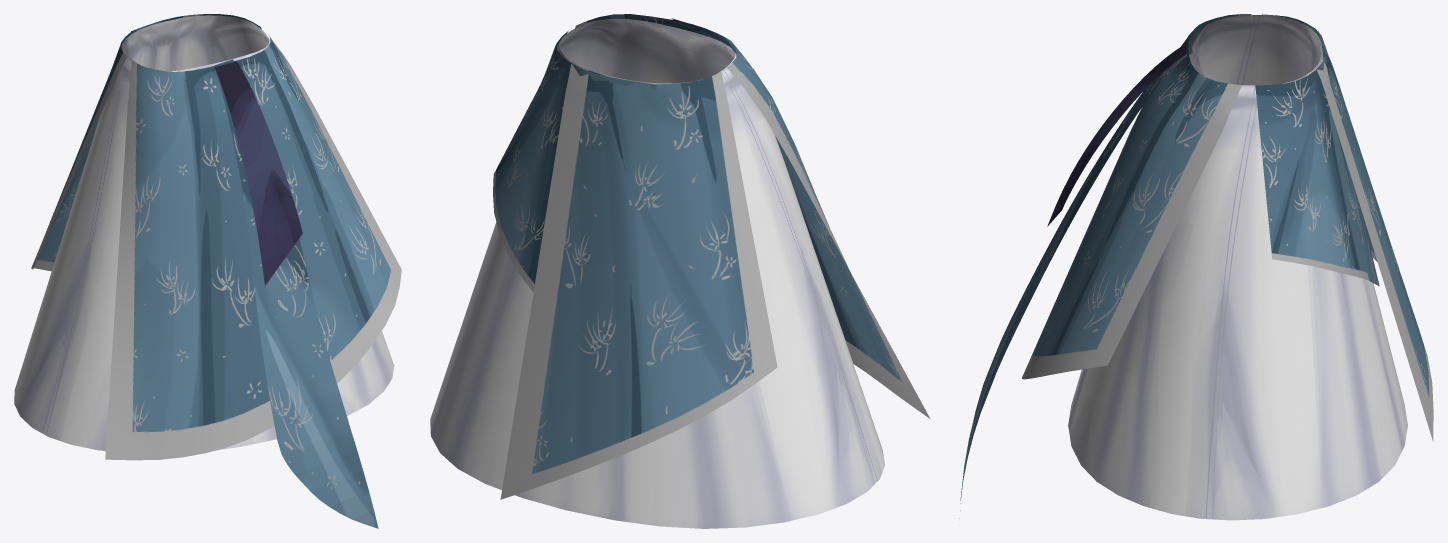
The model's file is Rinda_LowerDress.fbx.
3 renders of one model, left to right at view 1: azimuth 30°, elevation 25°; view 2: azimuth 150°, elevation 25°; view 3: azimuth 270°, elevation 25°, orthographic. The views are drawn at different scales.
Visible parts, largest first — view 1: Outer.Lower03, Dress.Lower, Selendang, Selendang2, Outer.Lower02; view 2: Outer.Lower02, Dress.Lower, Outer.Lower03, Outer.Lower01; view 3: Dress.Lower, Outer.Lower03, Outer.Lower01, Outer.Lower02, Selendang, Selendang2.
Part boxes in pixels (x1,y1,x2,y2): Outer.Lower03: (105,33,401,460); Dress.Lower: (14,15,394,450); Selendang: (214,59,378,528); Selendang2: (215,61,302,285); Outer.Lower02: (31,15,200,271); Outer.Lower02: (500,64,777,499); Dress.Lower: (430,18,884,528); Outer.Lower03: (575,14,930,418); Outer.Lower01: (493,31,656,292); Dress.Lower: (1068,15,1407,520); Outer.Lower03: (1022,14,1251,379); Outer.Lower01: (1255,30,1379,286); Outer.Lower02: (1262,14,1433,441); Selendang: (959,44,1192,518); Selendang2: (1047,43,1186,226).
Size of the model in its own units: 0.4696 by 0.4955 by 0.5224.
Materials: 6 (6 with a texture image).
